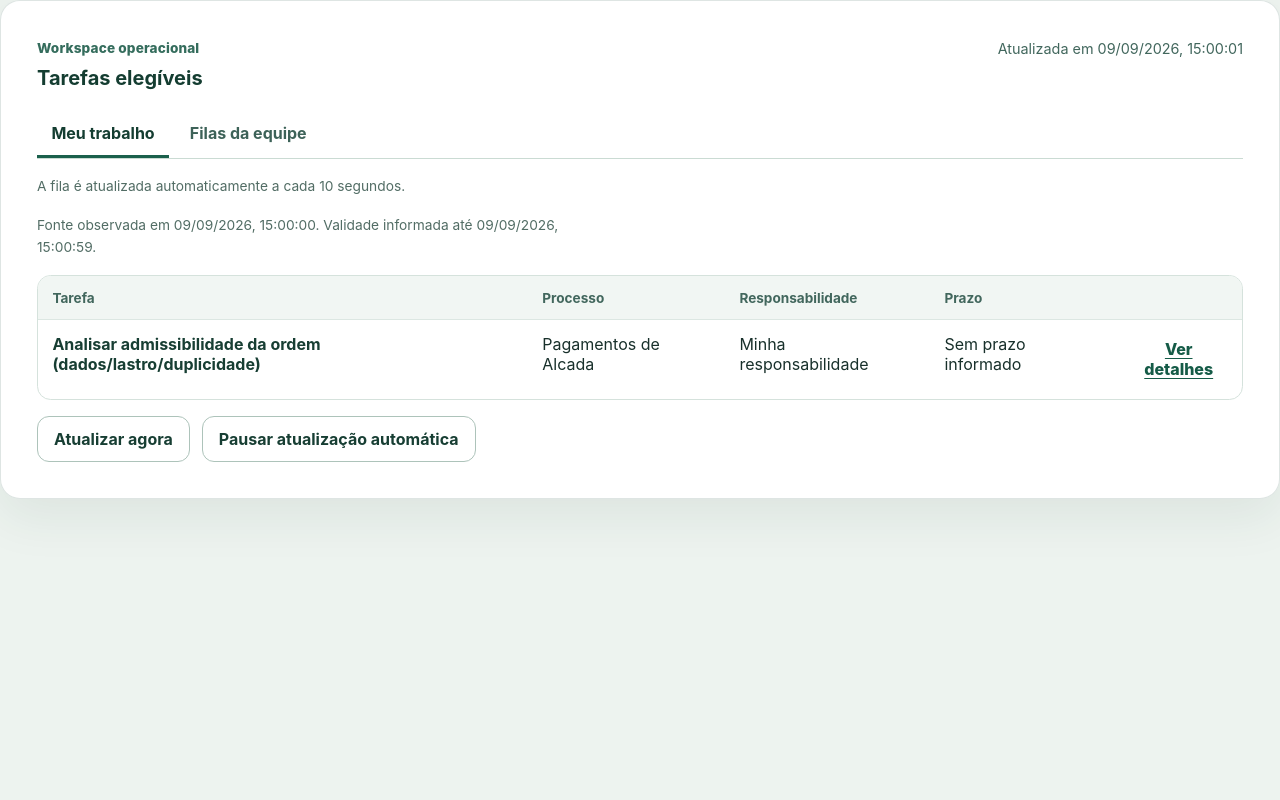
Test case: an already-expired detail response never becomes visible despite a current queue
Click the button named "Ver detalhes: Analisar admissibilidade da ordem (dados/lastro/duplicidade)".
click(1179, 360)  # box [1130,334,1228,385]
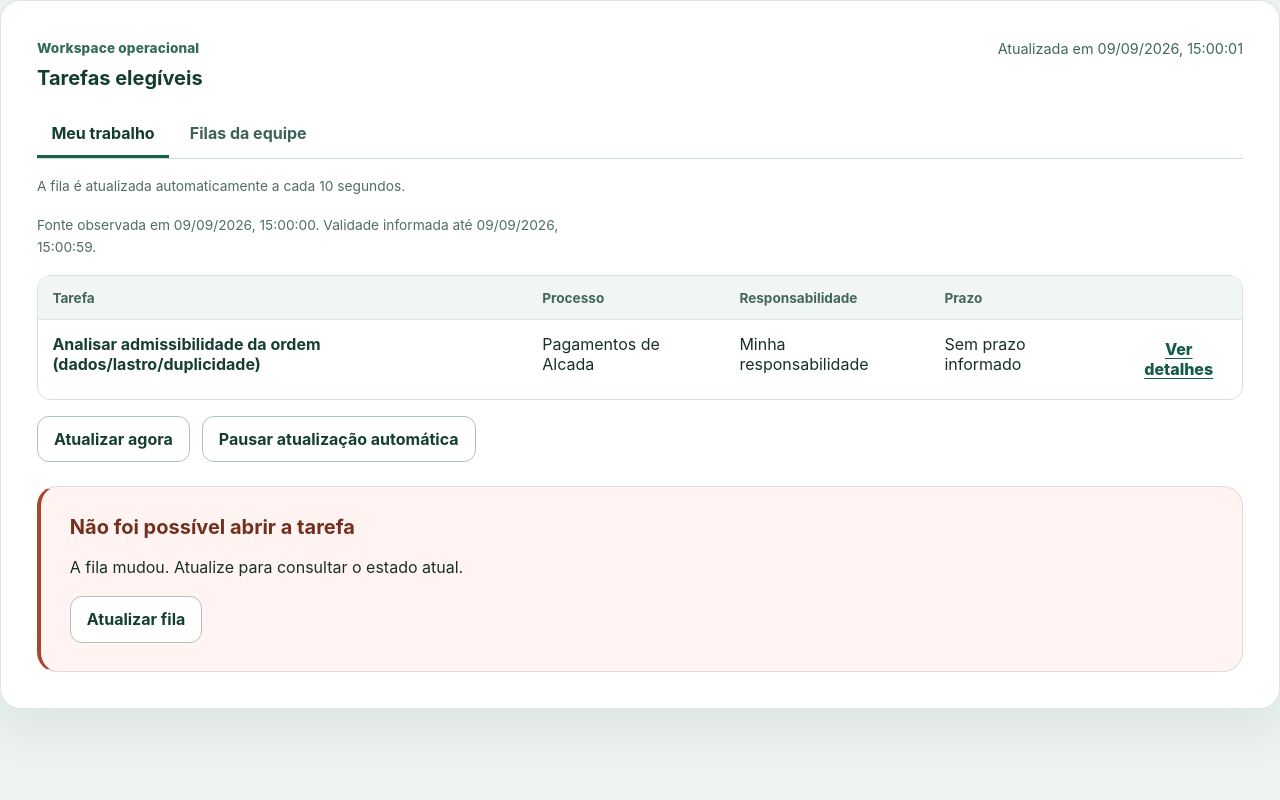
Expected: the message "A fila mudou. Atualize para consultar o estado atual." is shown, [70,557,463,577]
